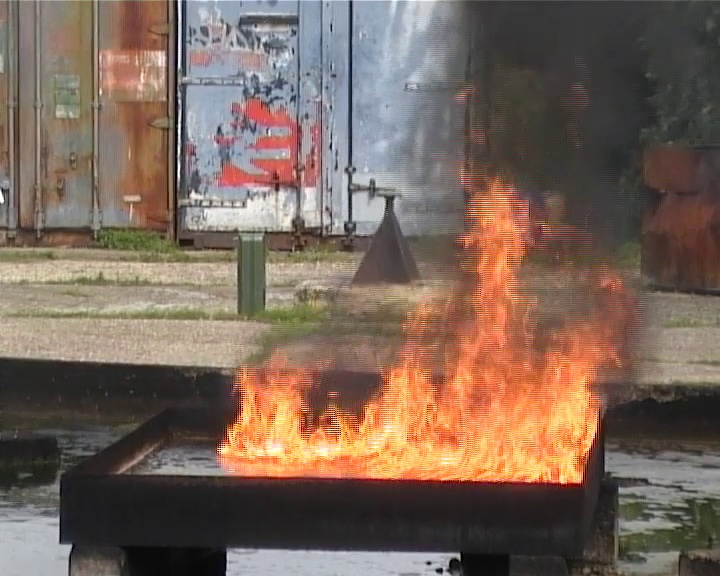fire: (220, 179, 614, 482)
